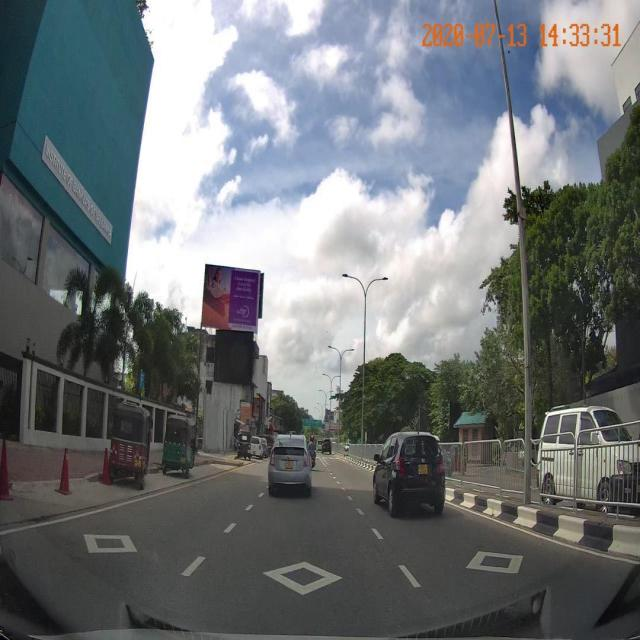Liniya 1: (0, 469, 232, 537), (445, 500, 639, 567), (397, 563, 423, 589), (180, 555, 207, 577), (222, 522, 237, 535), (370, 528, 384, 540), (245, 504, 254, 511), (356, 508, 365, 515), (258, 492, 265, 498), (346, 496, 353, 500)
Romb: (264, 558, 339, 592), (467, 551, 520, 575), (86, 531, 137, 555)
